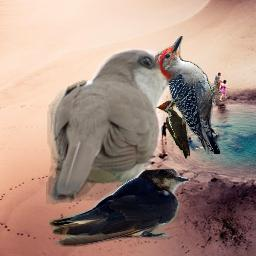Cuckoo: (46, 48, 189, 205)
Swallow: (49, 168, 190, 247)
Woodpecker: (155, 36, 220, 154), (156, 96, 190, 159)
